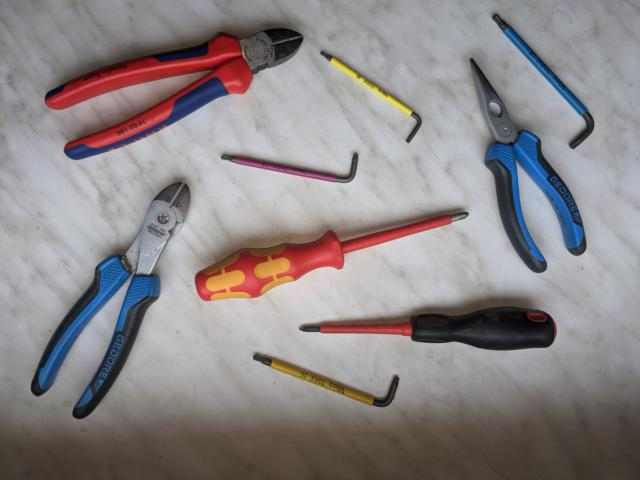Inbusschlüssel: (488, 9, 597, 150), (316, 46, 425, 145), (250, 347, 403, 411), (219, 147, 361, 186)
Schraubendreher: (192, 208, 473, 306), (298, 302, 559, 354)
Seitenschneider: (28, 177, 194, 421), (42, 24, 306, 162)
Zange: (466, 55, 590, 273)
